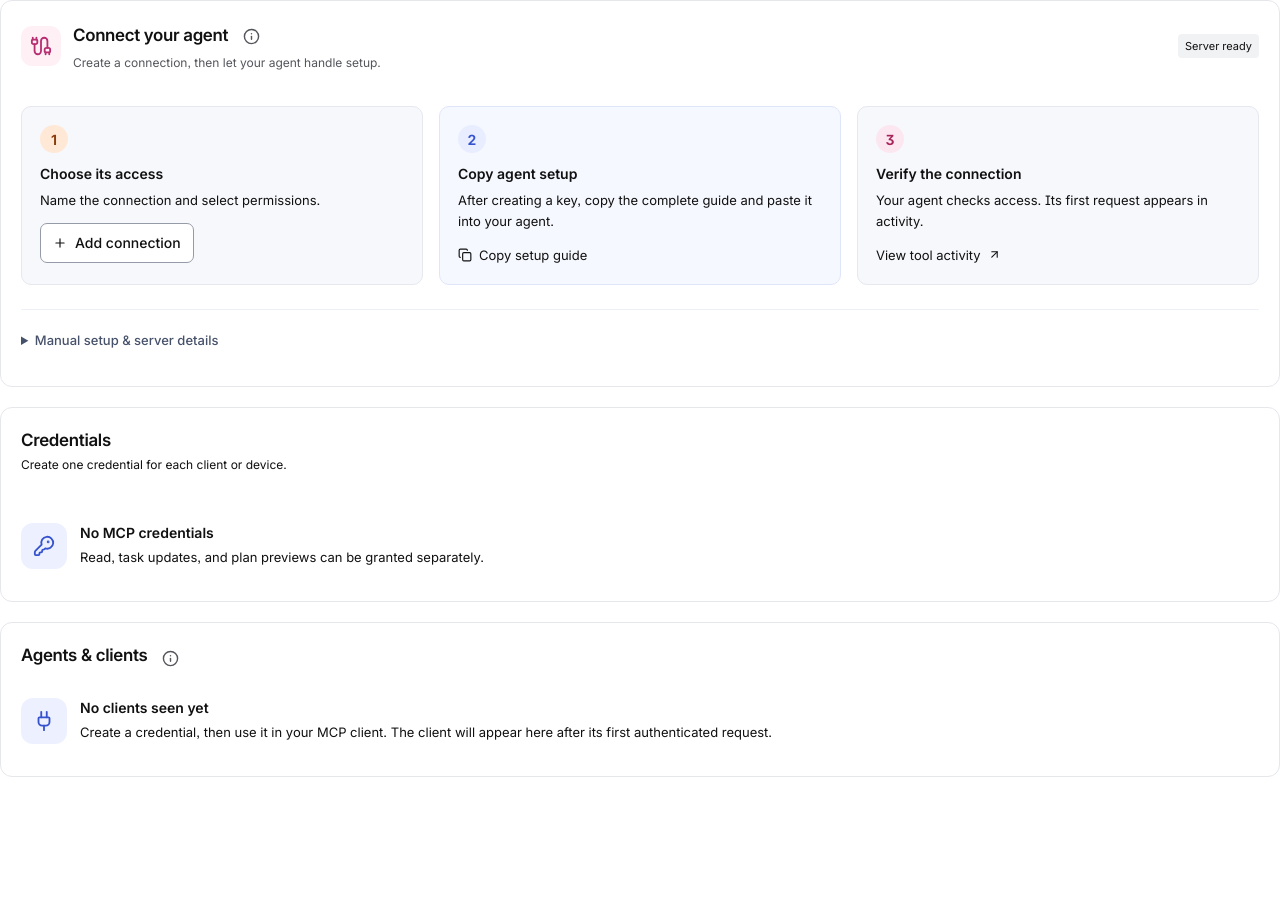
Test: reports clipboard failure inline and allows retry without losing the issued key
The width and height of the screenshot is (1280, 900).
Click the button "Add connection": [117, 243] box [40,223,194,263]
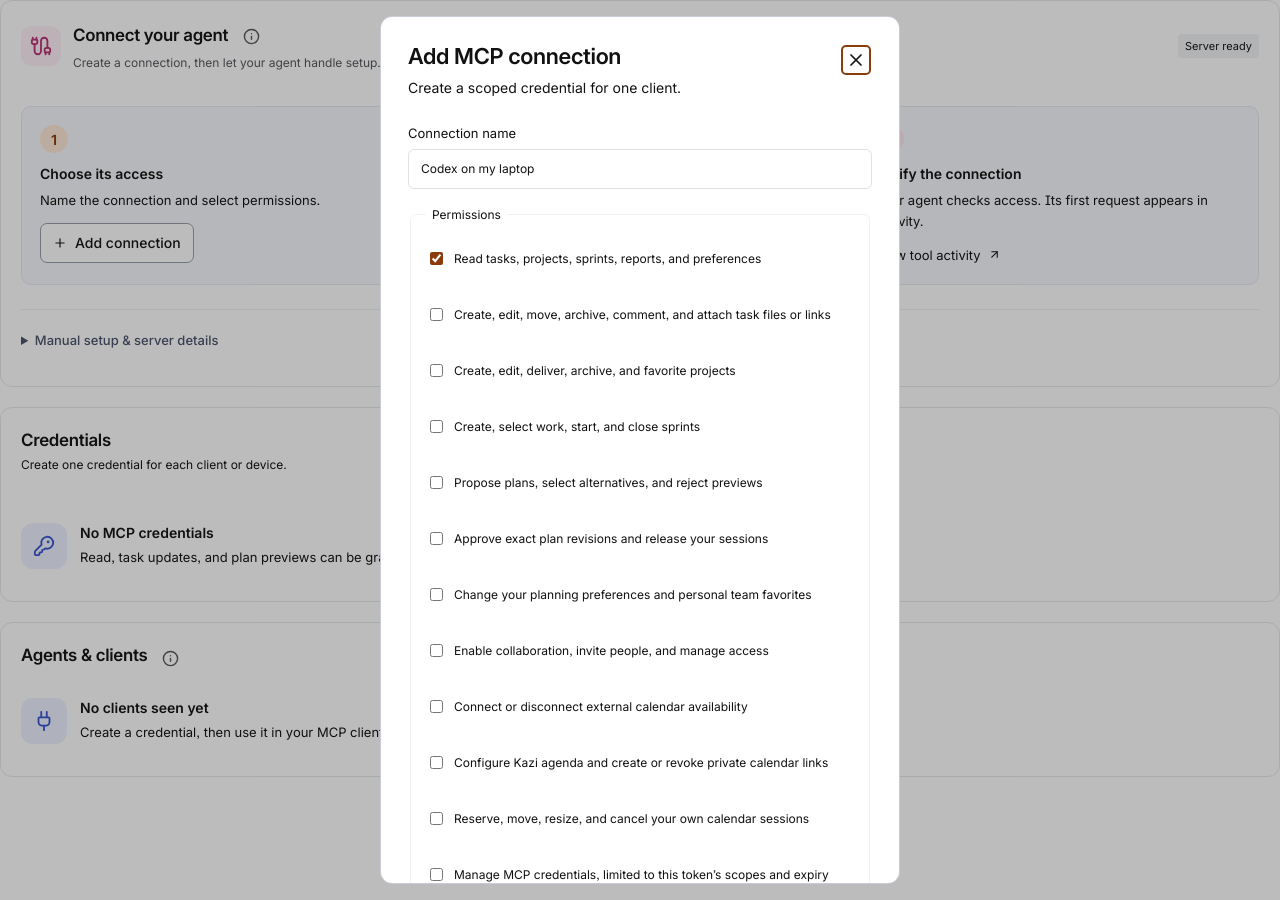
In the field labelled "Connection name": [640, 169] box [408,149,872,189], type "Clipboard client"
(page scrolled)
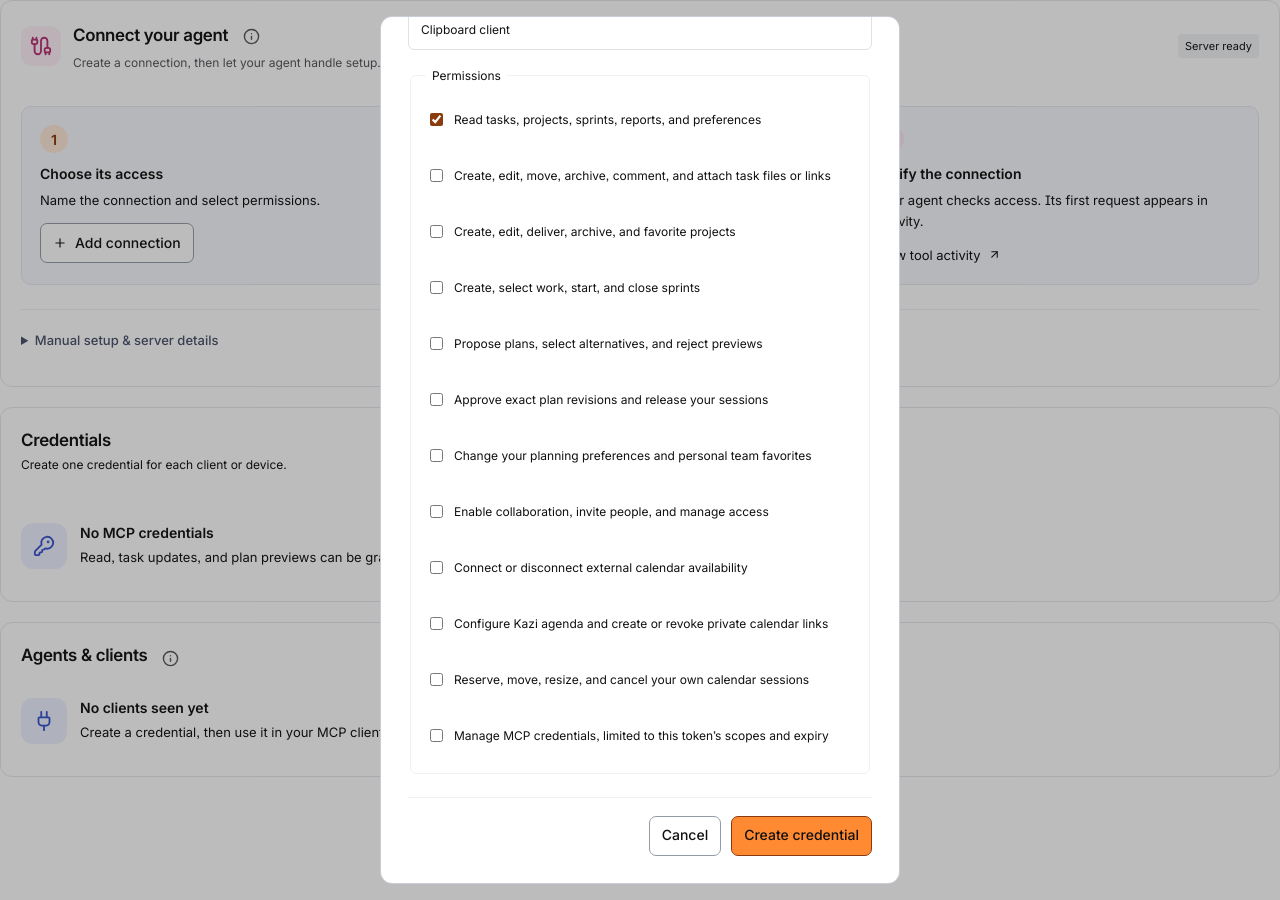
Click the button "Create credential": [802, 836] box [731,816,872,856]
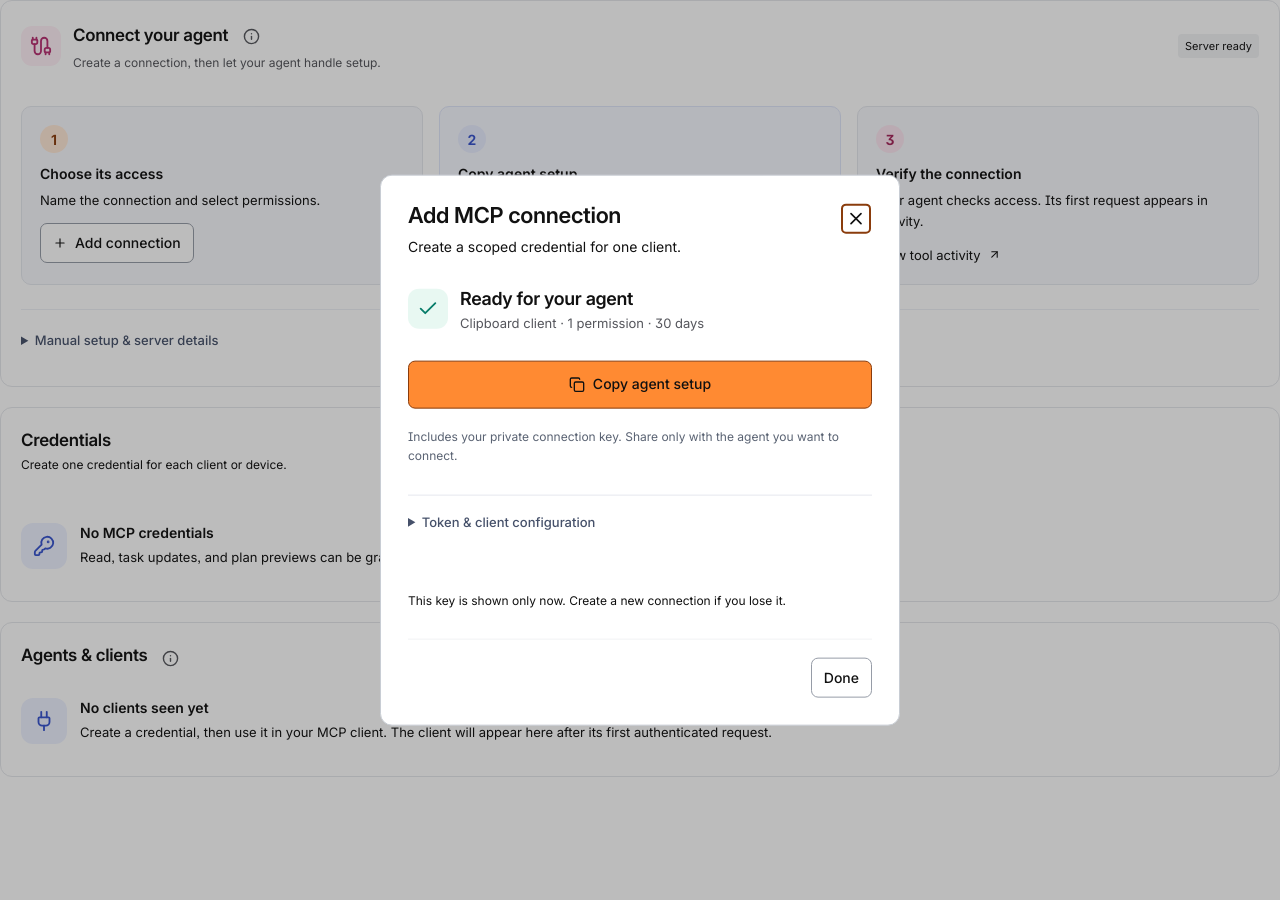
Click the button "Copy agent setup": [640, 384] box [408,360,872,408]
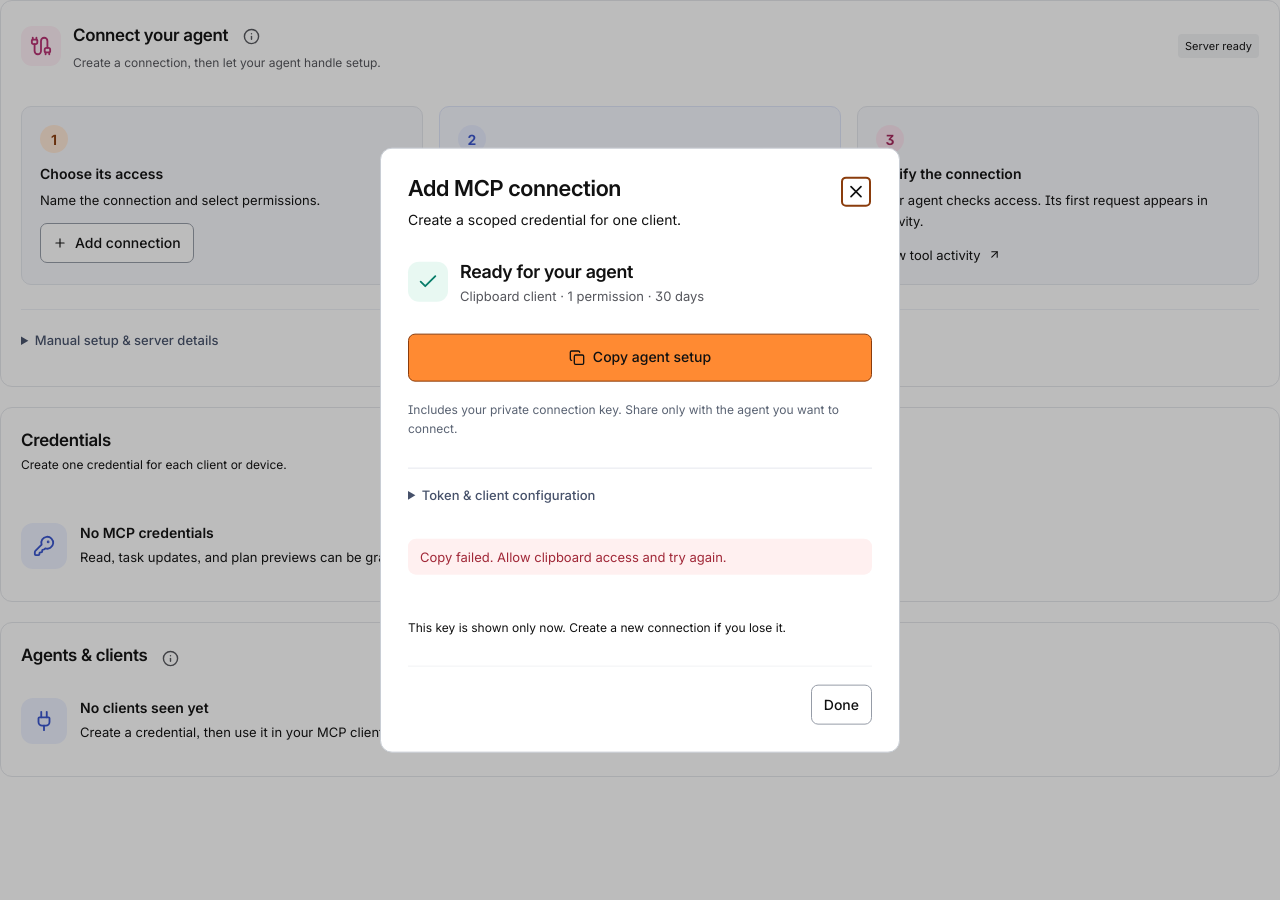
Check: the message shows "Copy failed", box [420,549,727,565]
Click the button "Copy agent setup": [640, 357] box [408,333,872,381]
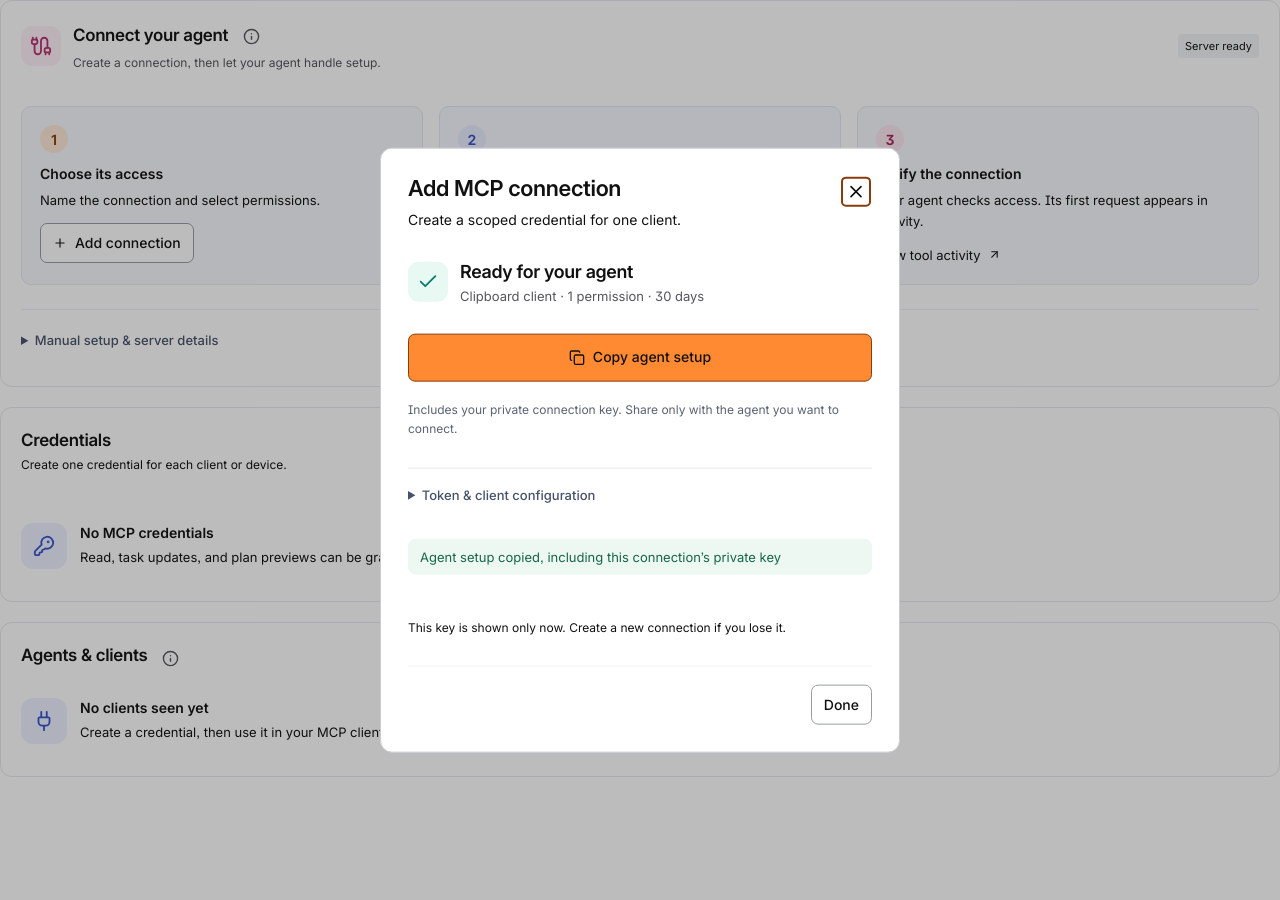
Check: the message shows "Agent setup copied", box [420,549,781,565]
